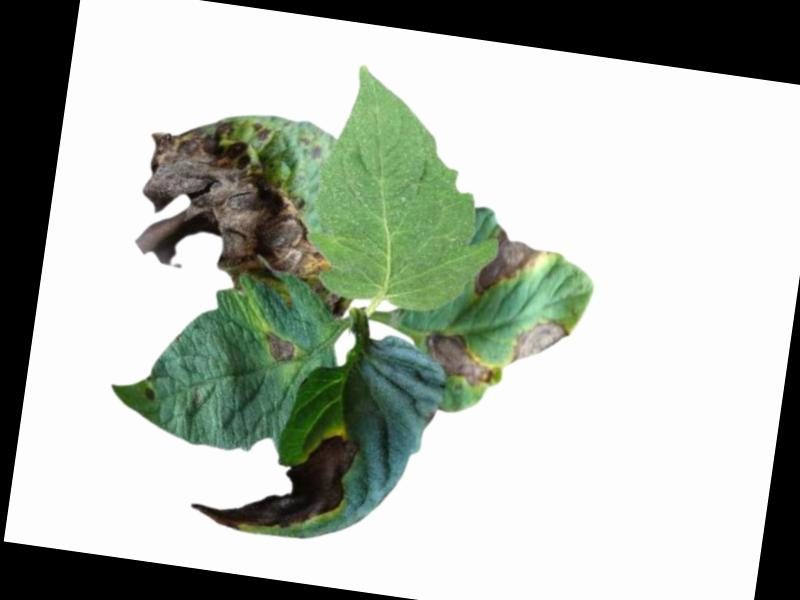Early_blight: (130, 106, 350, 303), (188, 412, 364, 544), (471, 225, 548, 304), (420, 325, 501, 389), (510, 312, 572, 372), (262, 331, 301, 364), (325, 289, 350, 320), (145, 385, 158, 400)
